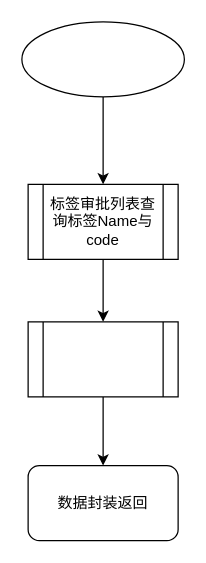
Image size: 206x563. Some labels were removed from this diagram. The centre of each missing label's shape, as x and y in pixels:
标签审批列表查询: [102,59]
根据标签Code与参数查询标签基础信息表: [102,359]
